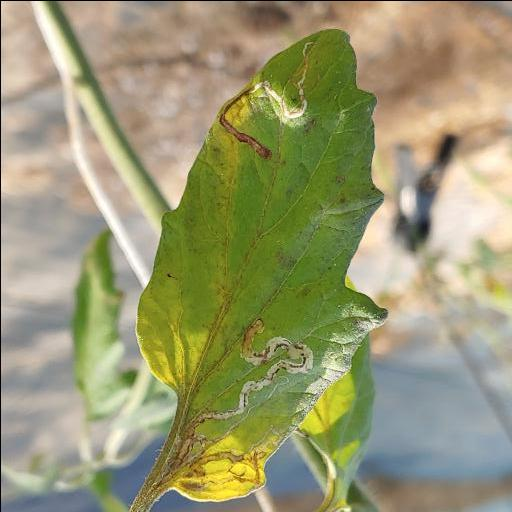Leaf Miner: (126, 26, 390, 511)
